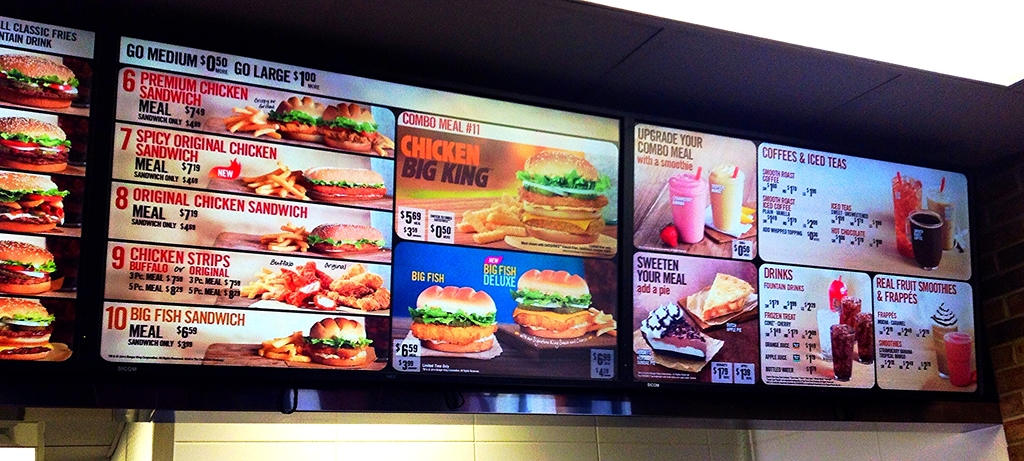hamburger: (514, 151, 612, 246), (408, 286, 499, 351), (510, 272, 593, 339), (0, 174, 73, 232), (0, 57, 79, 109), (0, 118, 73, 172), (0, 300, 56, 361), (0, 241, 58, 298)
